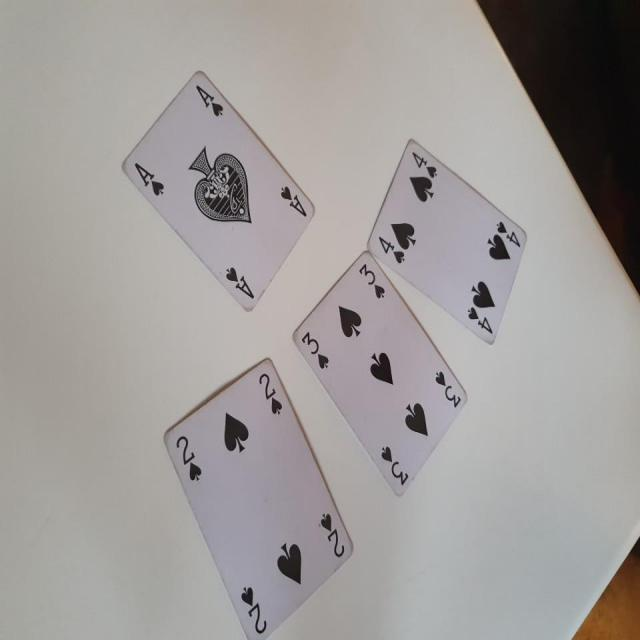3 Diamonds: (172, 372, 344, 640)
4 Diamonds: (301, 254, 459, 500)
5 Diamonds: (372, 137, 528, 347)
A Spades: (126, 73, 313, 307)
